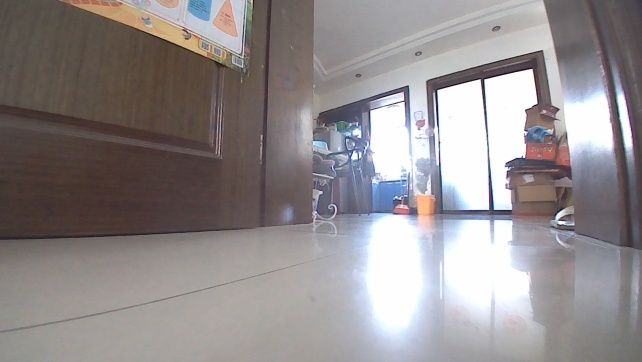cupboard: (370, 175, 409, 212)
